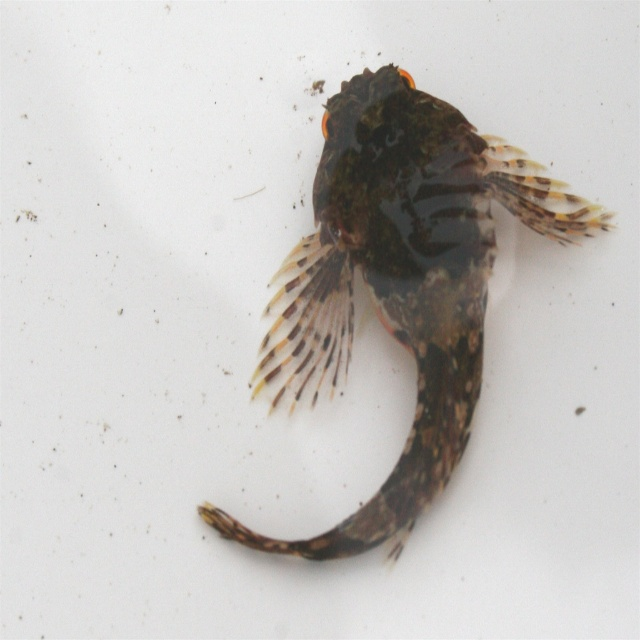Fish: (199, 62, 614, 574)
